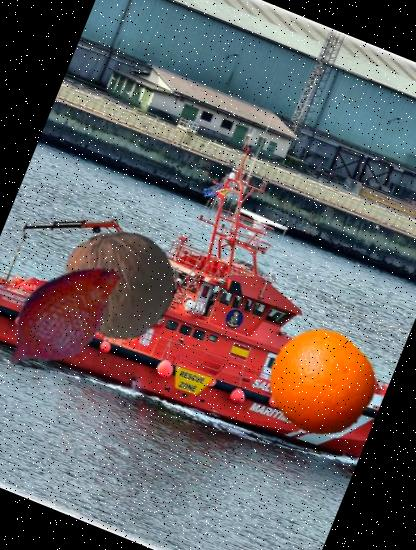Orange: (250, 312, 391, 454)
Salak: (0, 226, 152, 407)
Walnut: (49, 212, 193, 356)
